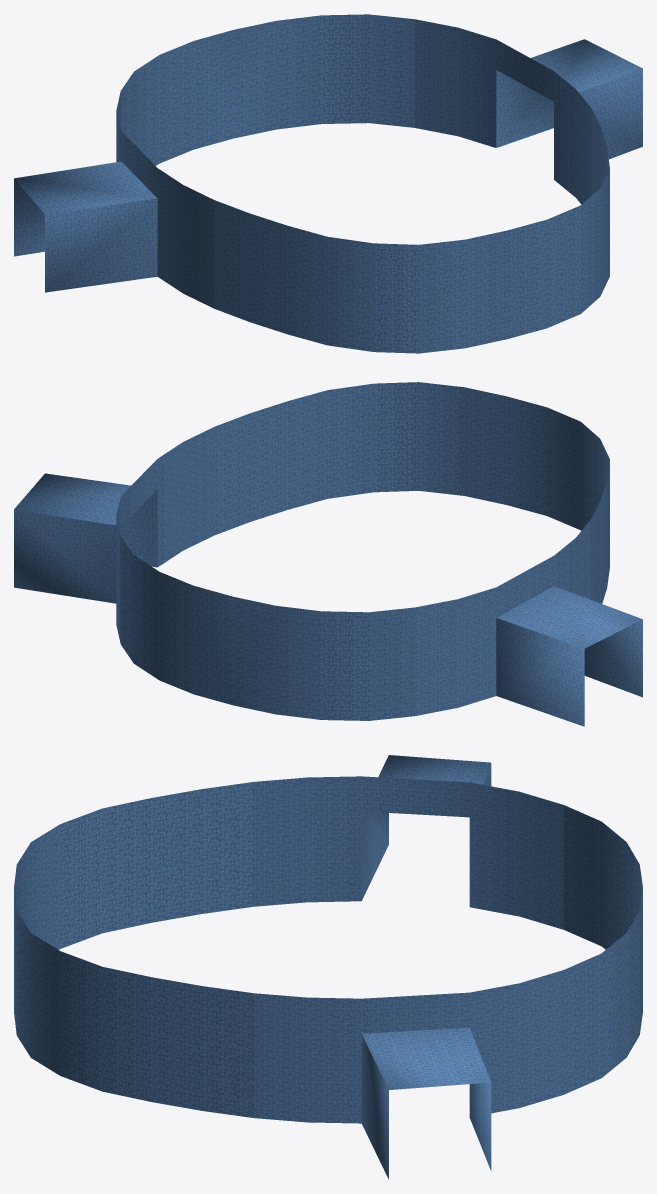
Rendered from Underwater.fbx.
The picture shows the model from 3 angles, top to bottom: view 1: azimuth 30°, elevation 25°; view 2: azimuth 150°, elevation 25°; view 3: azimuth 270°, elevation 25°; orthographic projection. The views are drawn at different scales.
Parts seen in each view (by area): view 1: Cylinder_059_movement.002, Cylinder_059_movement.001; view 2: Cylinder_059_movement.002, Cylinder_059_movement.001; view 3: Cylinder_059_movement.002, Cylinder_059_movement.001.
Boxes of the visible parts, box(x1,y1,x2,y2) form: Cylinder_059_movement.002: box(120, 14, 609, 353); Cylinder_059_movement.001: box(14, 19, 642, 308); Cylinder_059_movement.002: box(120, 382, 609, 720); Cylinder_059_movement.001: box(14, 427, 642, 726); Cylinder_059_movement.002: box(14, 782, 642, 1117); Cylinder_059_movement.001: box(253, 755, 563, 1179).
Bounding box in the file's own units: 4334 × 754 × 3437.
